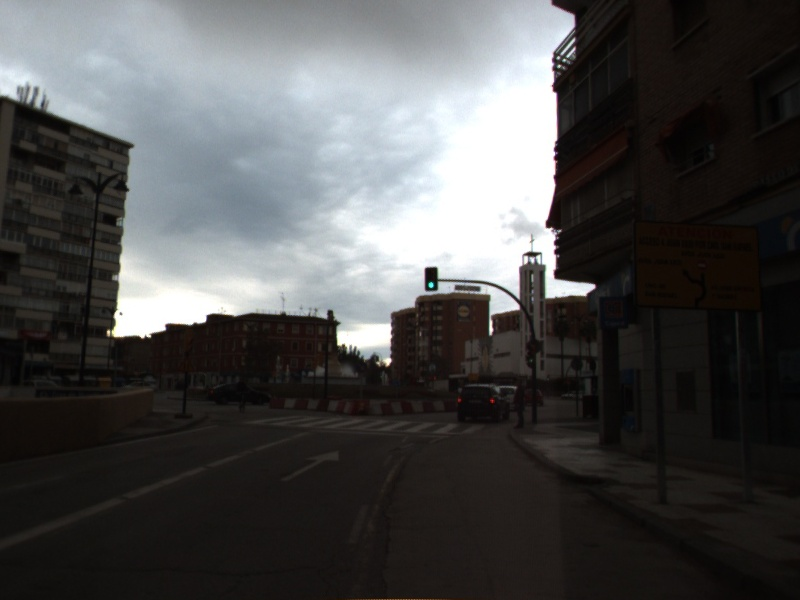STRAIGHT: (278, 448, 341, 484)
